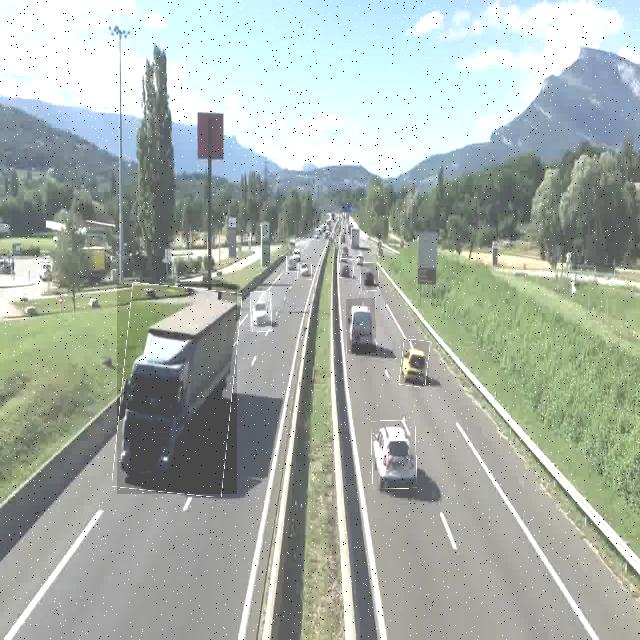Car: (371, 420, 417, 489), (346, 298, 376, 354), (401, 340, 429, 386), (250, 292, 272, 332), (361, 263, 379, 291), (340, 259, 354, 278), (298, 262, 312, 280), (286, 256, 299, 272)
Truck: (117, 284, 237, 494)
